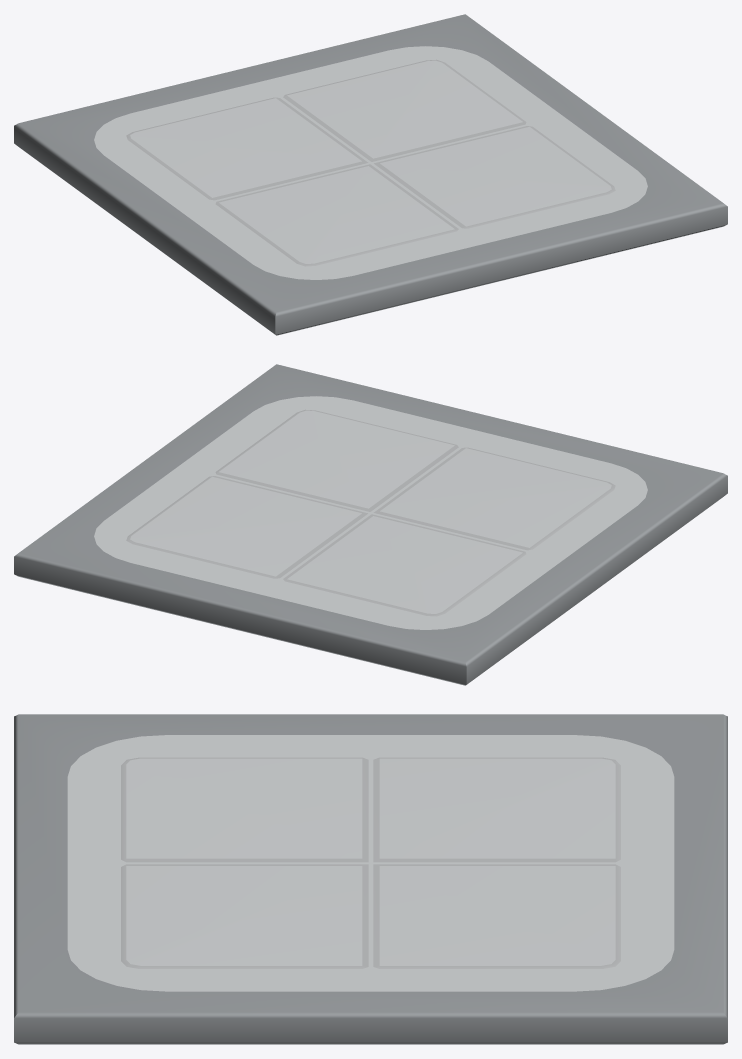
The model's file is Platform_003.glb.
3 renders of one model, top to bottom at view 1: azimuth 30°, elevation 25°; view 2: azimuth 150°, elevation 25°; view 3: azimuth 270°, elevation 25°, orthographic. The views are drawn at different scales.
Visible parts, largest first — view 1: Platform_003; view 2: Platform_003; view 3: Platform_003.
Boxes of the visible parts, x1=… form: Platform_003: x1=14, y1=14, x2=727, y2=335; Platform_003: x1=14, y1=364, x2=727, y2=685; Platform_003: x1=14, y1=714, x2=727, y2=1044.
Size of the model in its own units: 4 by 0.2134 by 4.
Materials: 1 (1 with a texture image).
